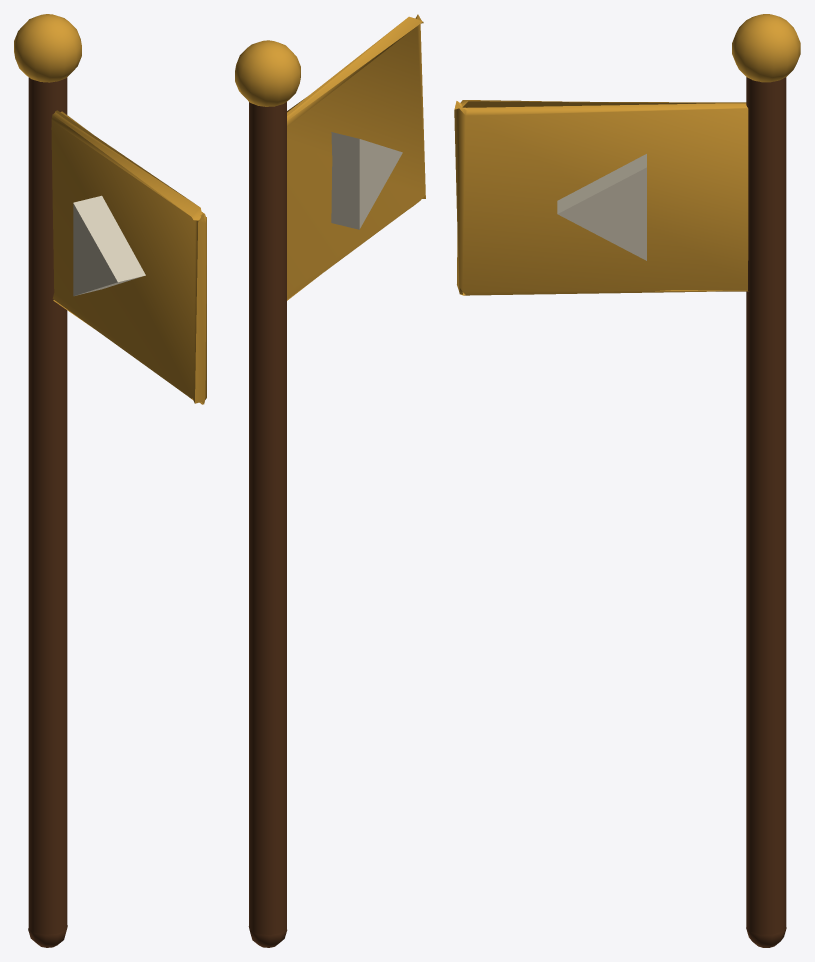
Rendered from flag_high.fbx.
3 views of the same model, side by side, from view 1: azimuth 30°, elevation 25°; view 2: azimuth 150°, elevation 25°; view 3: azimuth 270°, elevation 25° (orthographic). The views are drawn at different scales.
Parts seen in each view (by area): view 1: flag_high; view 2: flag_high; view 3: flag_high.
Part boxes in pixels (x1,y1,x2,y2): flag_high: (14,14,206,947); flag_high: (235,14,425,947); flag_high: (454,14,800,947).
Bounding box in the file's own units: 0.16 × 2.06 × 0.6961.
